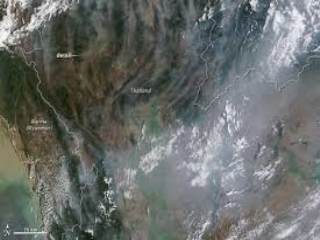smoke: (109, 132, 277, 231)
